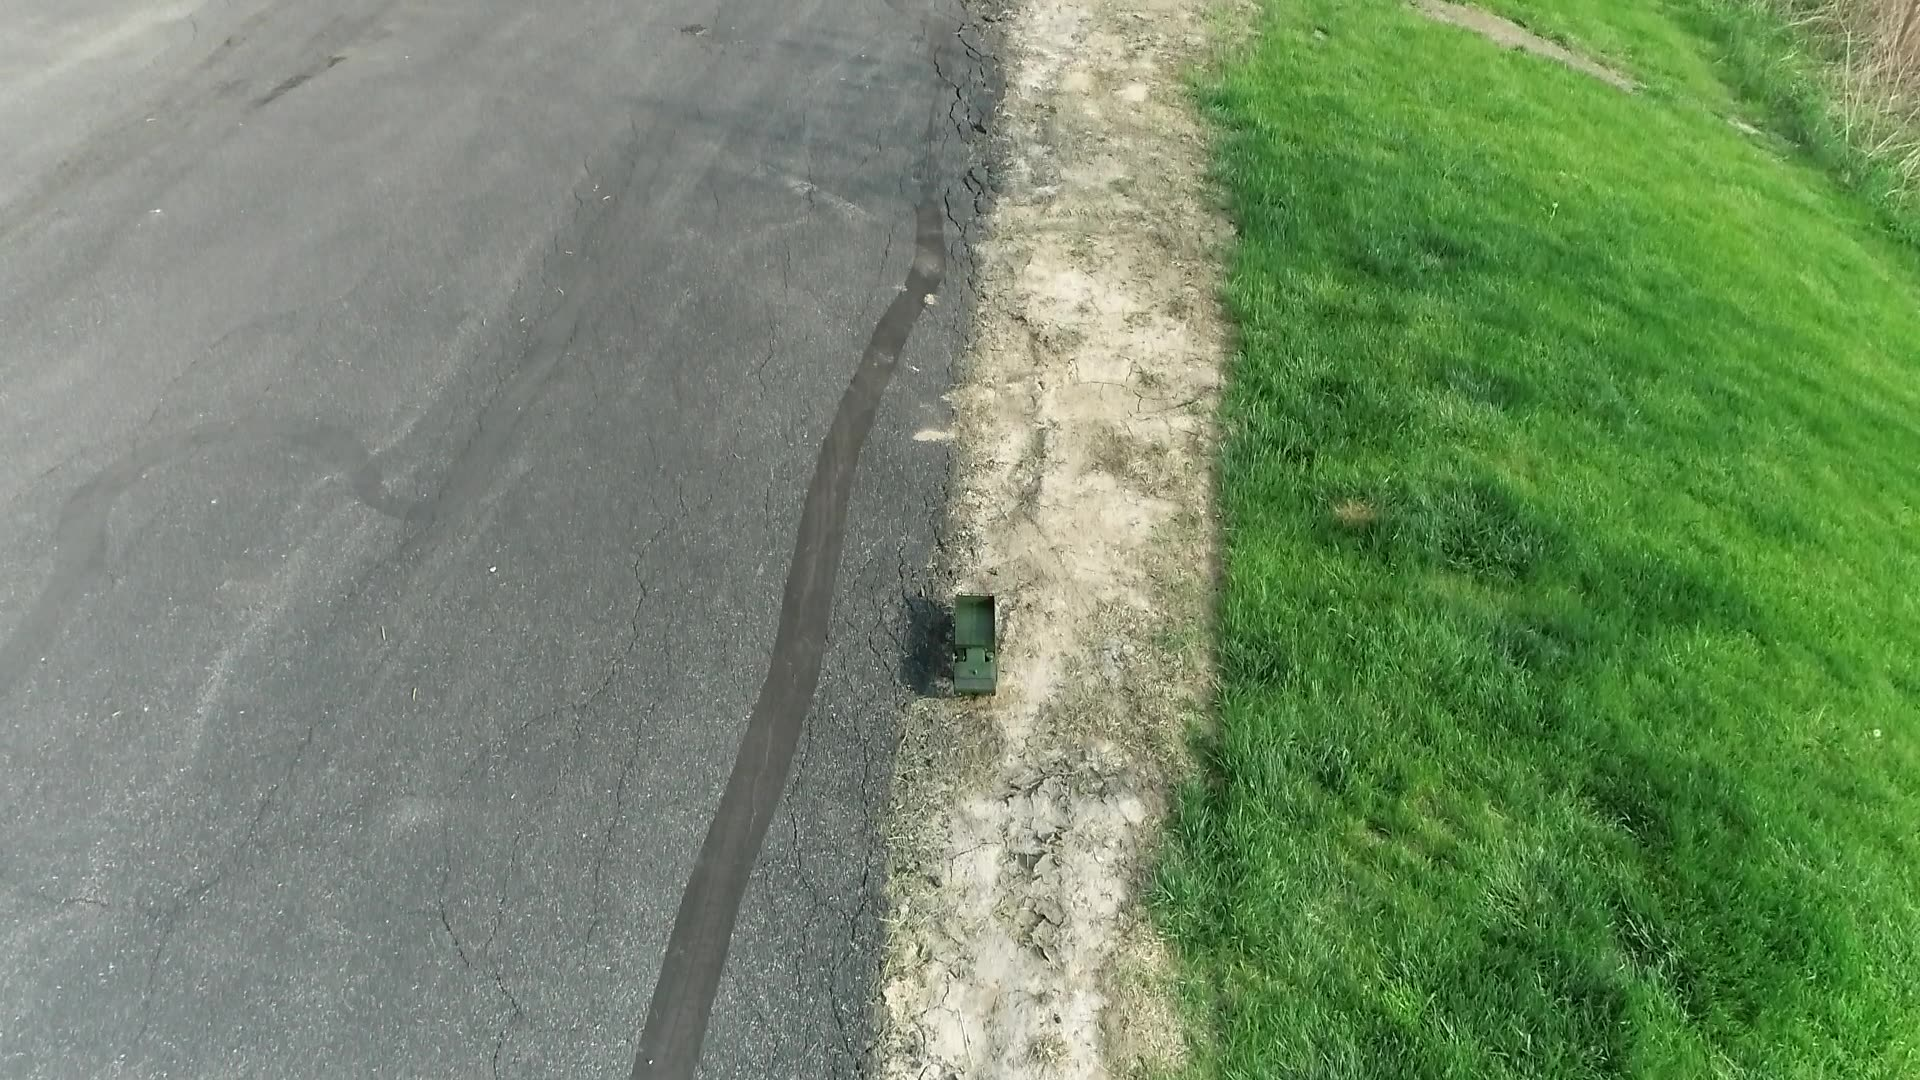transporter9: (939, 583, 1014, 705)
